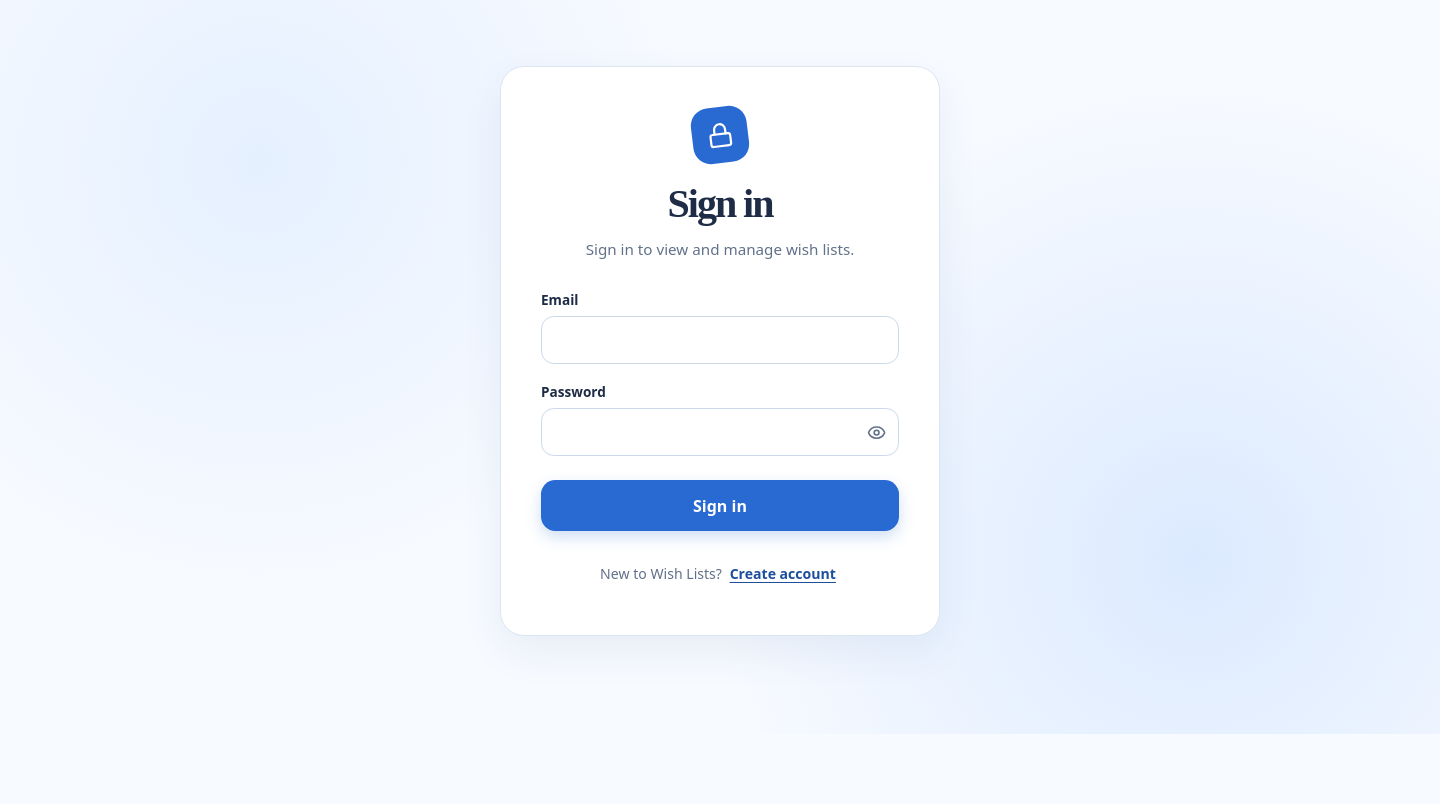
Test: a visitor can create an account and sees the email confirmation step
This screenshot has width=1440, height=804.
Click the button "Create account". click: x=783, y=573
box: [726,551,840,595]
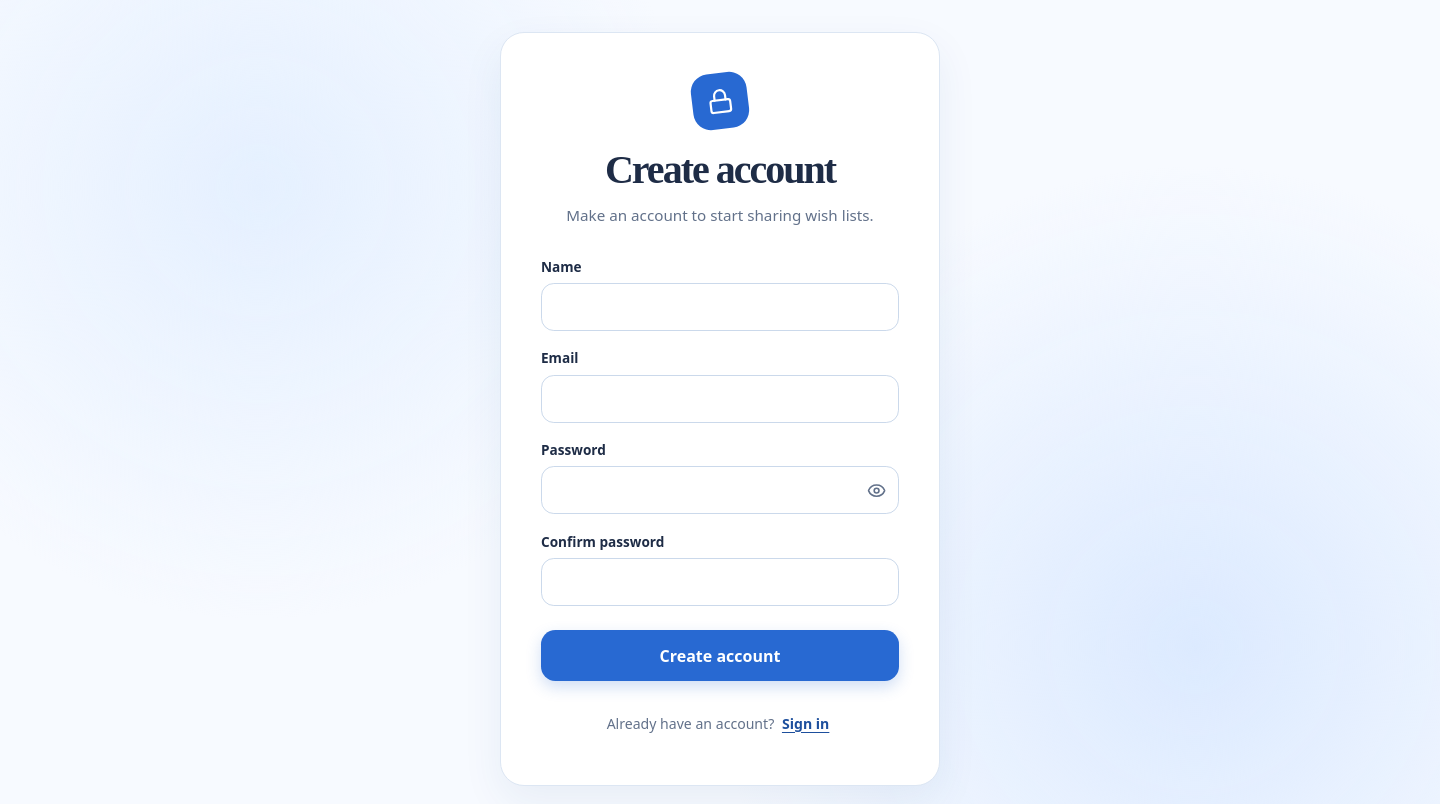
Check: the field labelled "Name" is shown
Check: the password field labelled "Confirm password" is shown, box [541,558,899,606]
Type "Alex" into the field labelled "Name". click: x=720, y=307
box: [541,283,899,331]
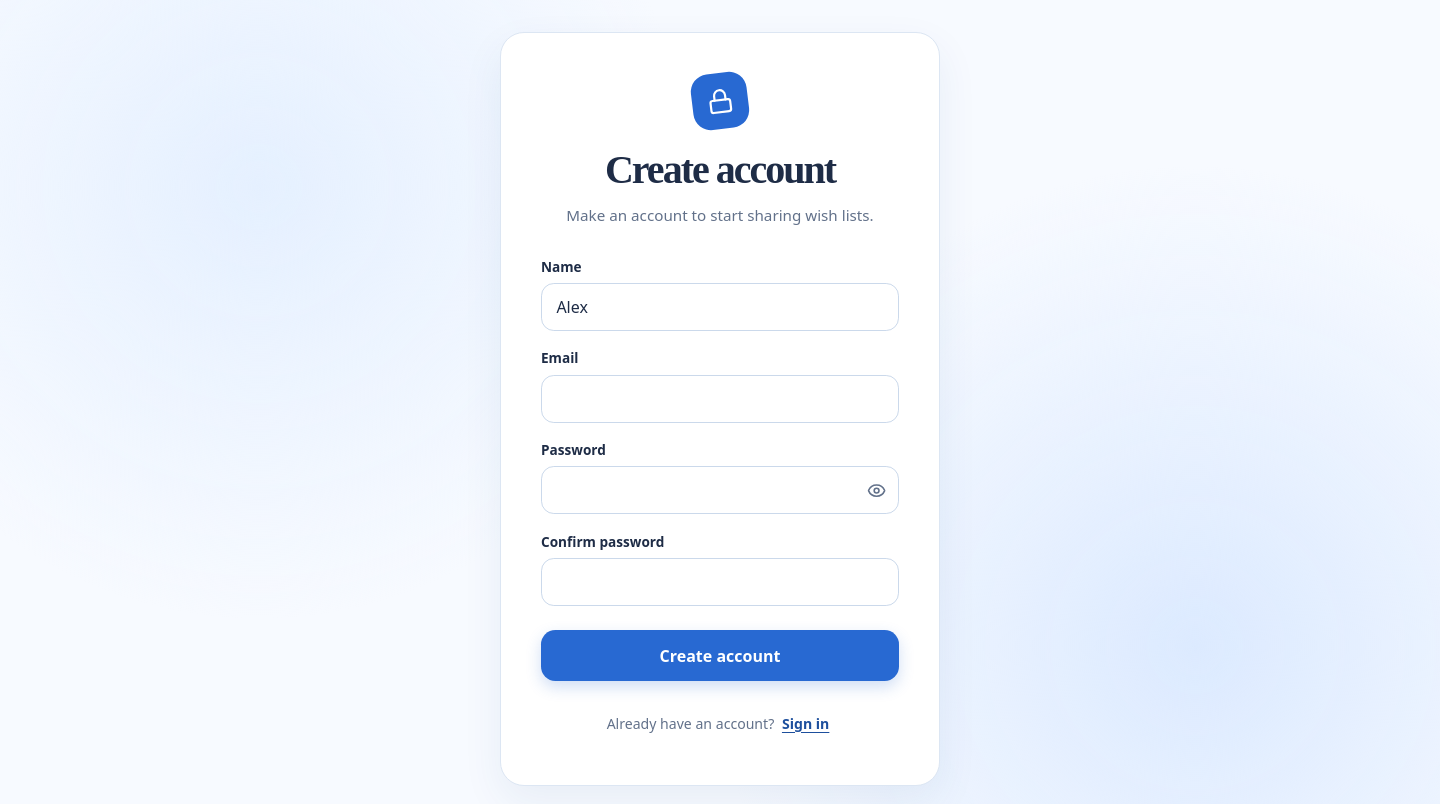
Type "alex@example.com" into the field labelled "Email". click: x=720, y=398
box: [541,374,899,422]
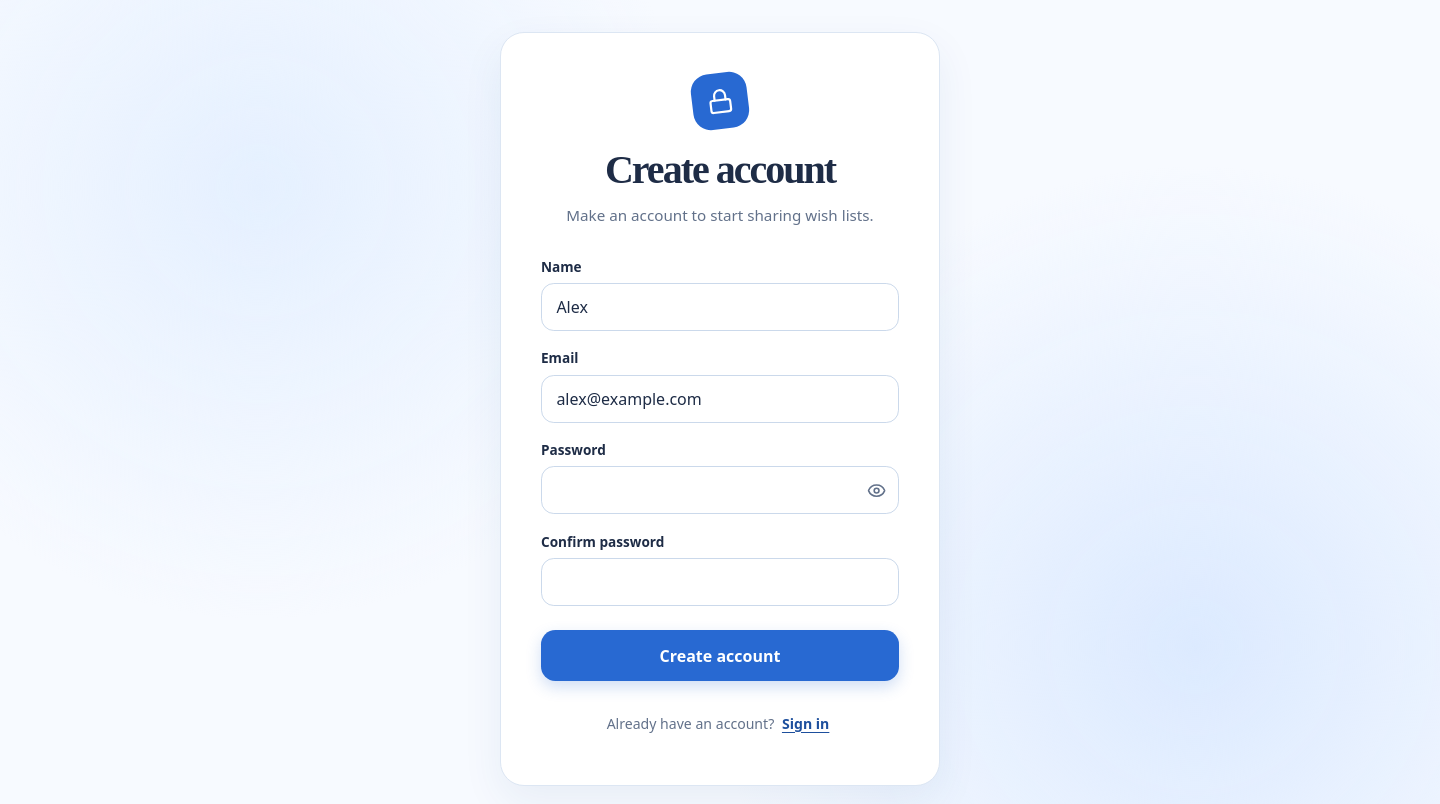
Type "Example-Test-Password-8" into the password field labelled "Password". click: x=720, y=490
box: [541,466,899,514]
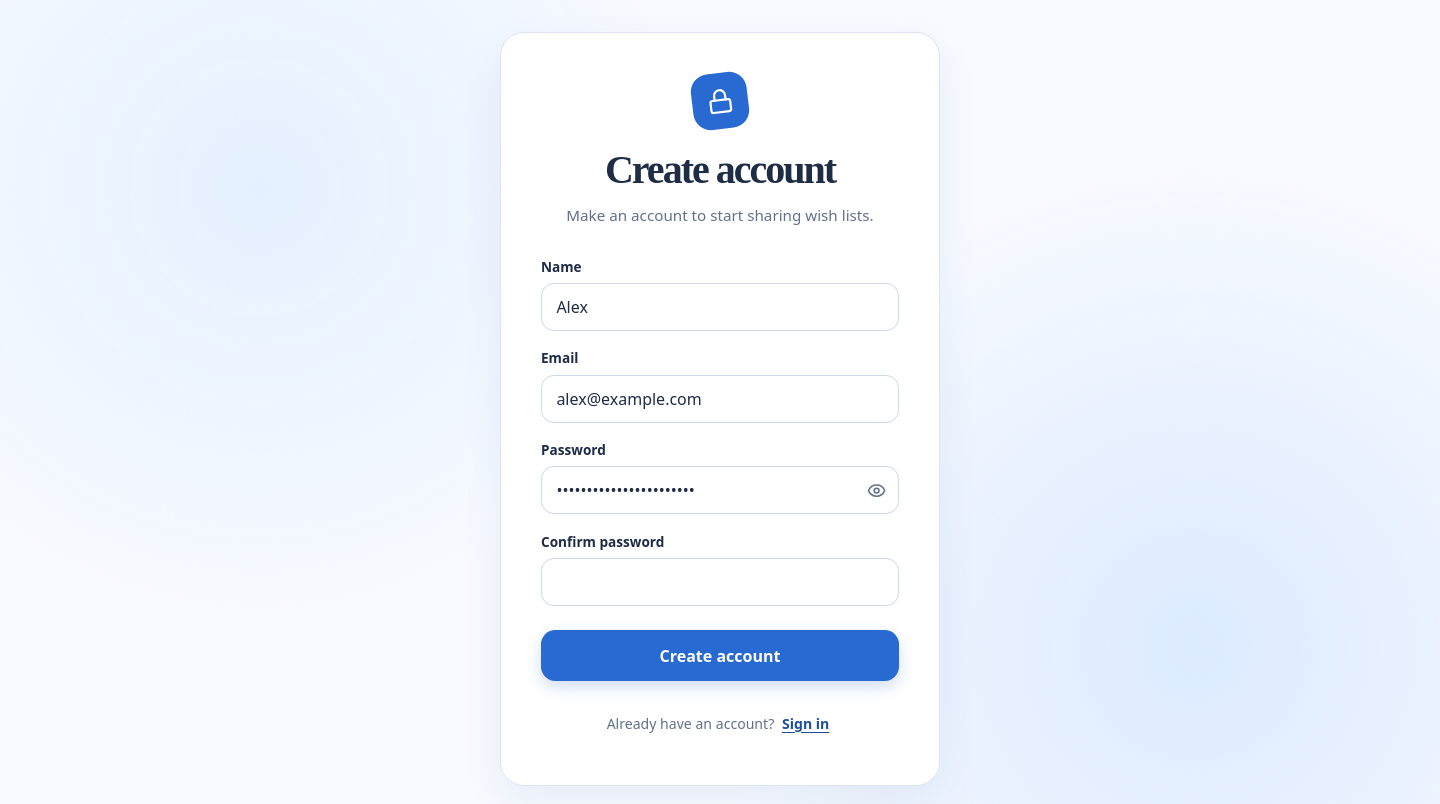
Type "Example-Test-Password-8" into the password field labelled "Confirm password". click: x=720, y=582
box: [541,558,899,606]
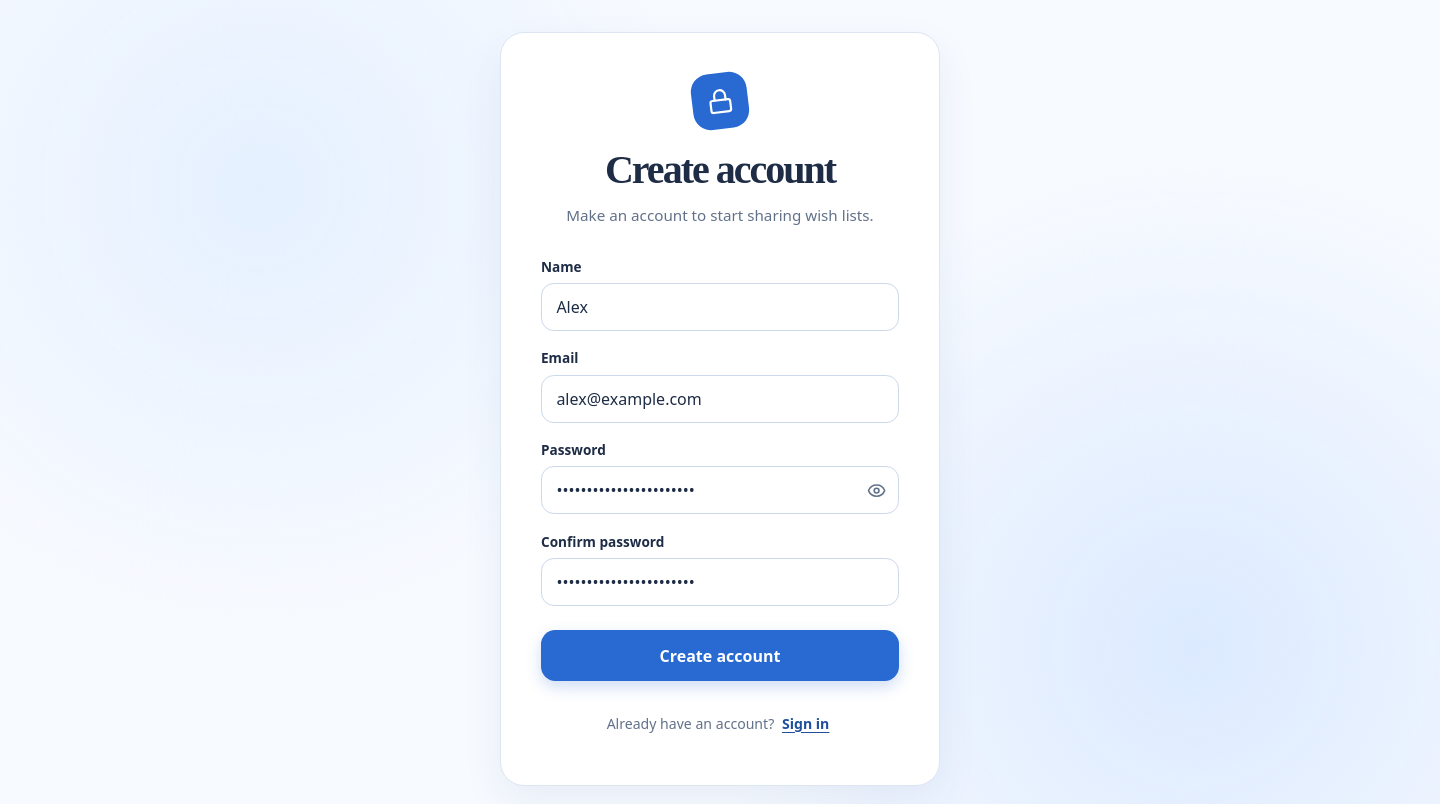
Click the button "Create account". click: x=720, y=656
box: [541,630,899,681]
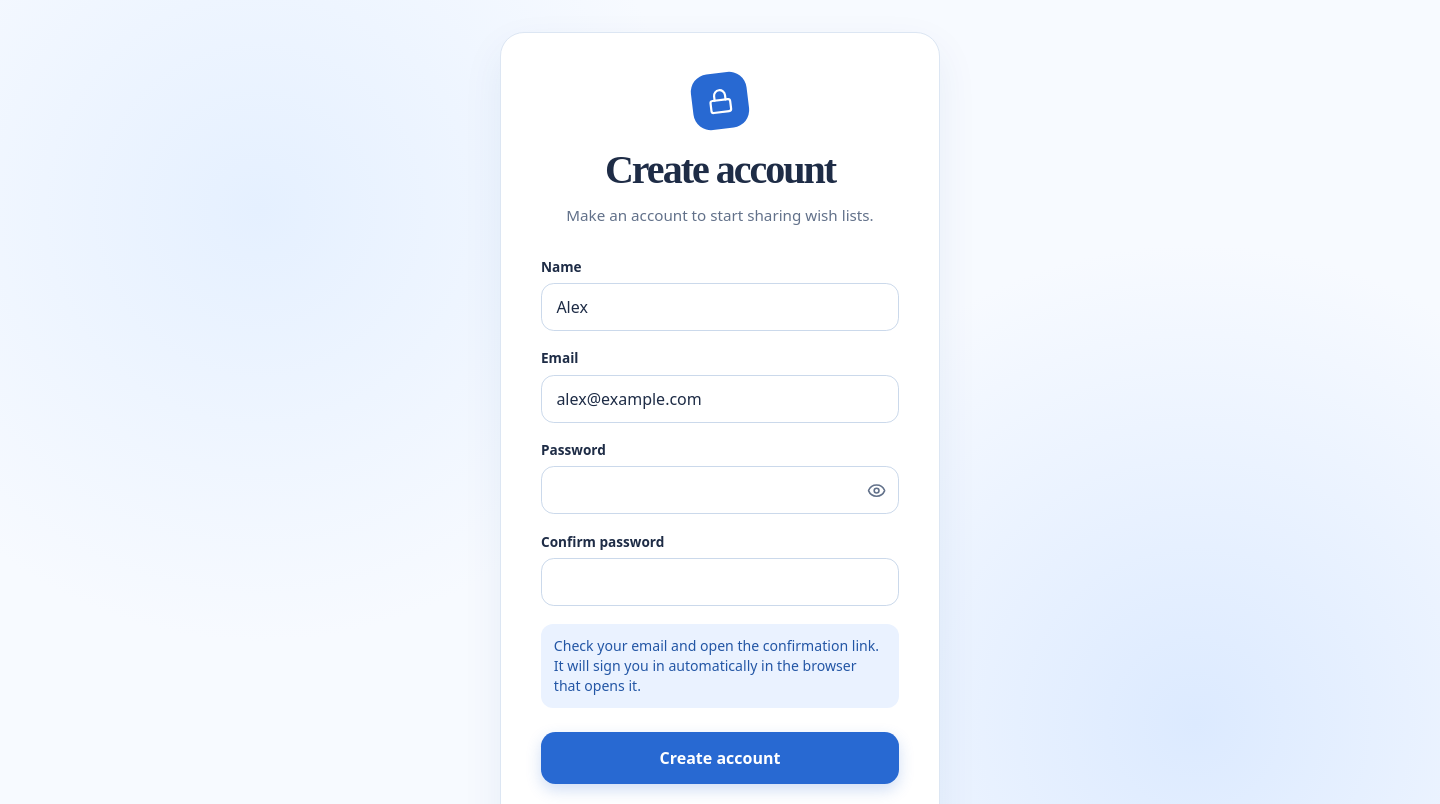
Check: the message shows "It will sign you in automatically", box [554,636,879,695]
